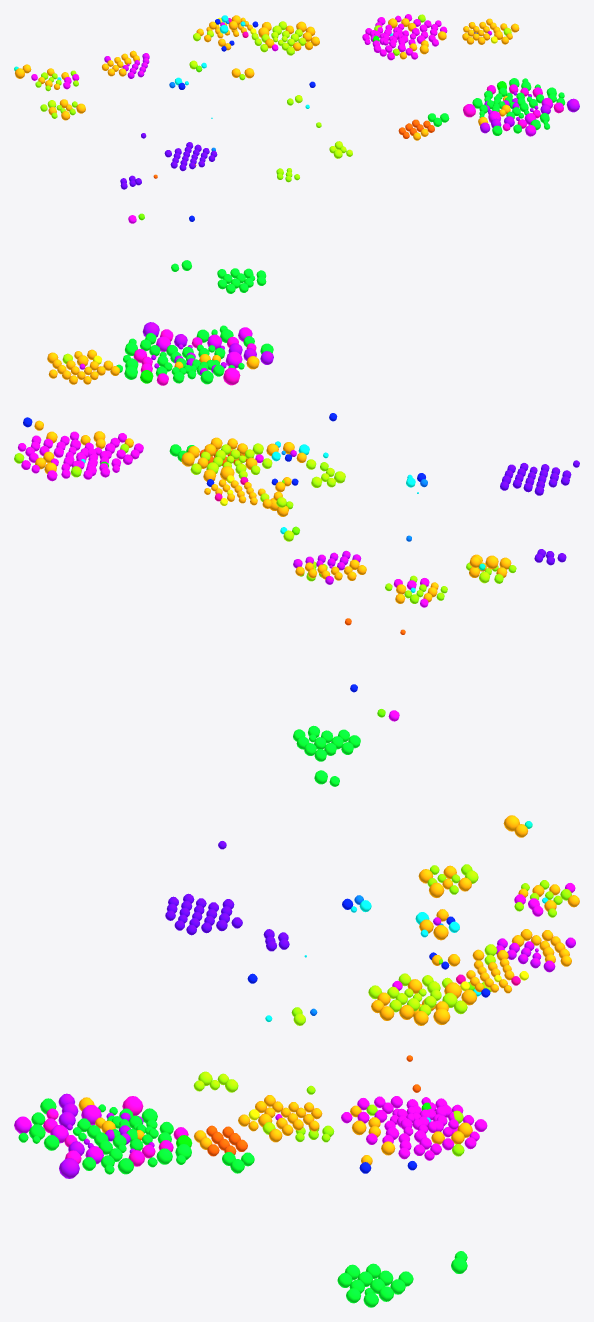
Rendered from task-06be5006a-layout.gltf.
3 renders of one model, top to bottom at view 1: azimuth 30°, elevation 25°; view 2: azimuth 150°, elevation 25°; view 3: azimuth 270°, elevation 25°, orthographic. The views are drawn at different scales.
Parts seen in each view (by area): view 1: diff_changed_files, normal_avif_files, normal_cc_files, normal_c_files, normal_yml_files, normal_h_files, normal_png_files, normal_jpg_files, normal_cmake_files, normal_xml_files, normal_y4m_files; view 2: diff_changed_files, normal_avif_files, normal_cc_files, normal_c_files, normal_yml_files, normal_h_files, normal_png_files, normal_jpg_files, normal_cmake_files, normal_y4m_files; view 3: diff_changed_files, normal_avif_files, normal_cc_files, normal_c_files, normal_yml_files, normal_h_files, normal_png_files, normal_jpg_files, normal_cmake_files, normal_y4m_files, normal_xml_files.
Boxes of the visible parts, x1,y1,x2,y2 form: diff_changed_files: (15,15,519,140); normal_avif_files: (171,78,565,293); normal_cc_files: (31,14,447,223); normal_c_files: (47,21,511,158); normal_yml_files: (120,133,217,189); normal_h_files: (35,14,425,182); normal_png_files: (480,91,579,133); normal_jpg_files: (463,84,563,131); normal_cmake_files: (104,22,491,78); normal_xml_files: (153,119,434,178); normal_y4m_files: (488,98,553,136); diff_changed_files: (34,349,511,603); normal_avif_files: (116,325,360,786); normal_cc_files: (18,431,429,721); normal_c_files: (62,353,489,583); normal_yml_files: (500,460,579,565); normal_h_files: (14,444,516,603); normal_png_files: (142,322,273,374); normal_jpg_files: (133,329,256,385); normal_cmake_files: (79,363,361,584); normal_y4m_files: (156,327,252,368); diff_changed_files: (78,815,579,1164); normal_avif_files: (18,1098,467,1307); normal_cc_files: (341,883,575,1160); normal_c_files: (193,870,497,1134); normal_yml_files: (165,841,289,951); normal_h_files: (291,864,571,1156); normal_png_files: (58,1093,154,1178); normal_jpg_files: (43,1096,188,1166); normal_cmake_files: (275,917,575,1120); normal_y4m_files: (14,1105,103,1164); normal_xml_files: (206,1055,420,1156).
Size of the model in its own units: 155 by 86.33 by 116.
